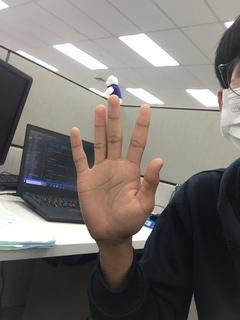hand: (70, 95, 164, 240)
